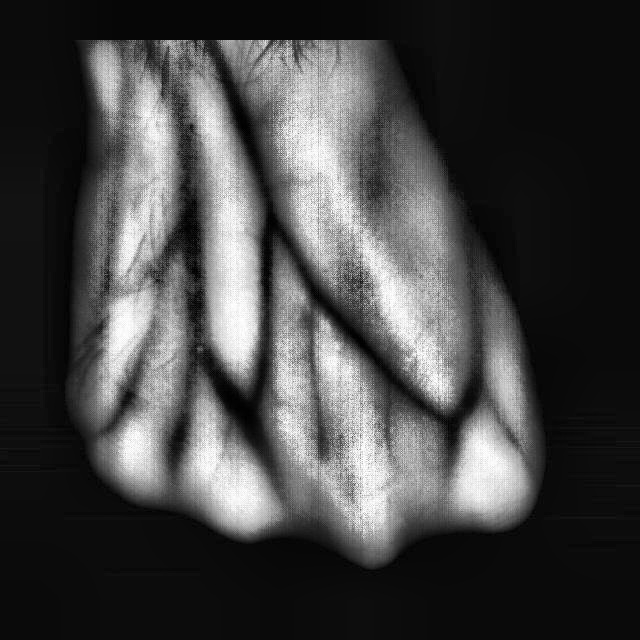Vein: (176, 183, 222, 357)
